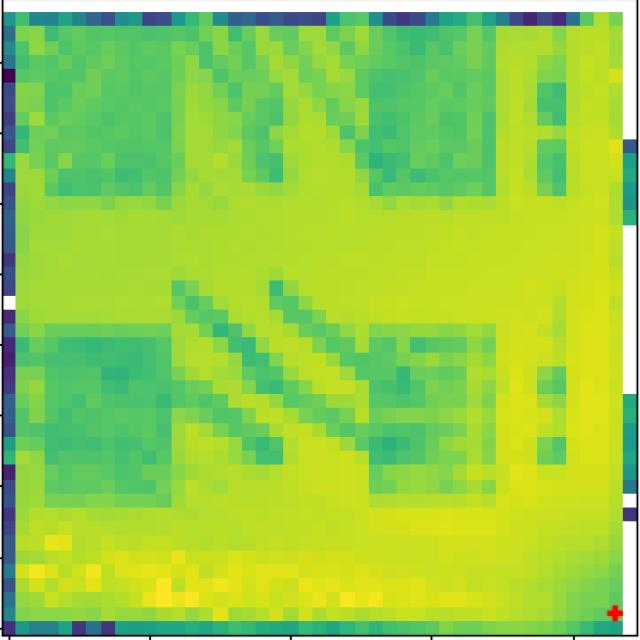Concrete: (368, 30, 498, 199)
Glass: (42, 27, 186, 204)
Metal: (368, 324, 499, 500)
Wood: (44, 323, 173, 509)
